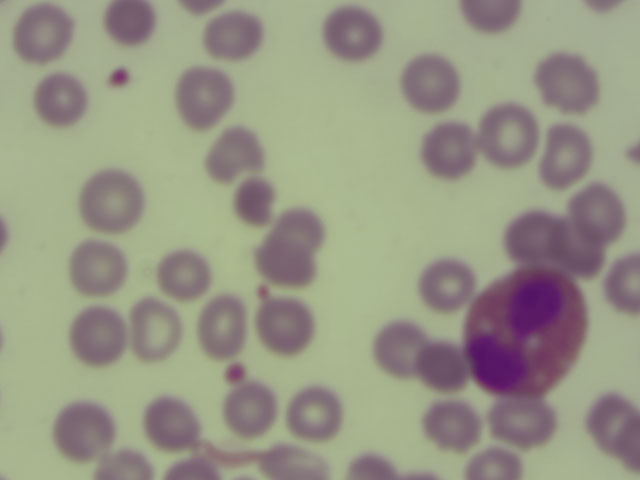Platelets: (105, 61, 138, 91), (222, 360, 251, 388), (251, 281, 276, 305)
RBC: (490, 397, 554, 449), (257, 205, 327, 251), (419, 256, 474, 313), (412, 338, 467, 395), (368, 319, 423, 376), (284, 387, 339, 444), (224, 382, 279, 439), (143, 396, 198, 453), (56, 400, 111, 457), (259, 297, 314, 354), (194, 298, 249, 355), (129, 299, 184, 356), (69, 306, 124, 363), (158, 246, 213, 303), (70, 242, 125, 299), (82, 173, 137, 230), (225, 170, 280, 227), (204, 121, 259, 178), (175, 69, 230, 126), (205, 8, 260, 65), (32, 71, 87, 128), (16, 4, 71, 61), (550, 223, 605, 280), (501, 206, 556, 263), (572, 181, 627, 238), (538, 128, 593, 185), (539, 53, 594, 110), (482, 108, 537, 165), (421, 121, 476, 178), (403, 56, 458, 113), (323, 5, 378, 62), (585, 397, 640, 454), (424, 398, 479, 455), (102, 1, 159, 46), (262, 445, 328, 480), (92, 445, 157, 480), (257, 243, 313, 283), (462, 445, 524, 480), (605, 256, 640, 313), (460, 1, 520, 34), (164, 450, 229, 480), (346, 447, 404, 480)
WBC: (467, 273, 575, 392)
